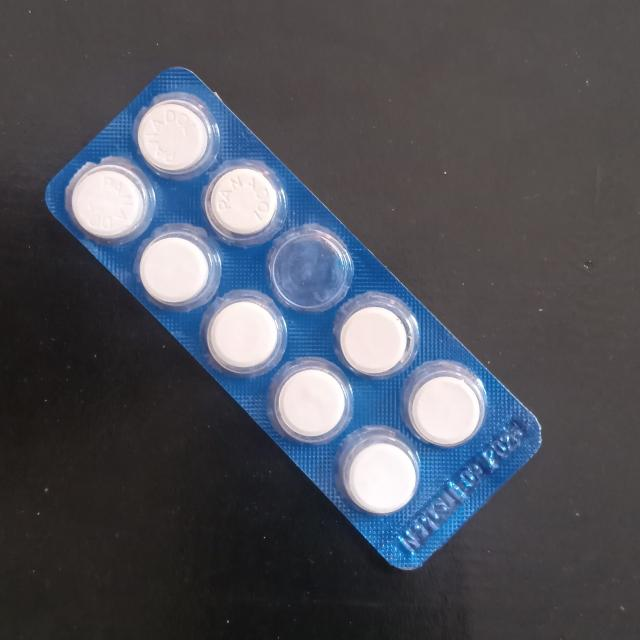defect: (271, 231, 348, 307)
